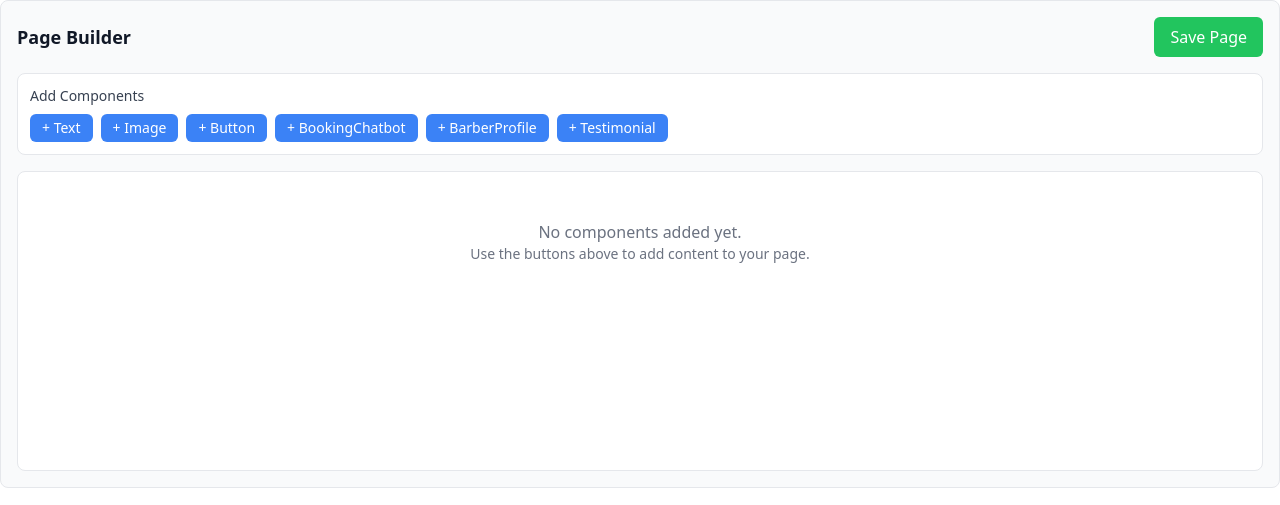
PageBuilder Component › deletes component when delete button is clicked
This screenshot has width=1280, height=505.
Add a component
Click the button "+ Text" at point(61, 128), box [30,114,92,142]
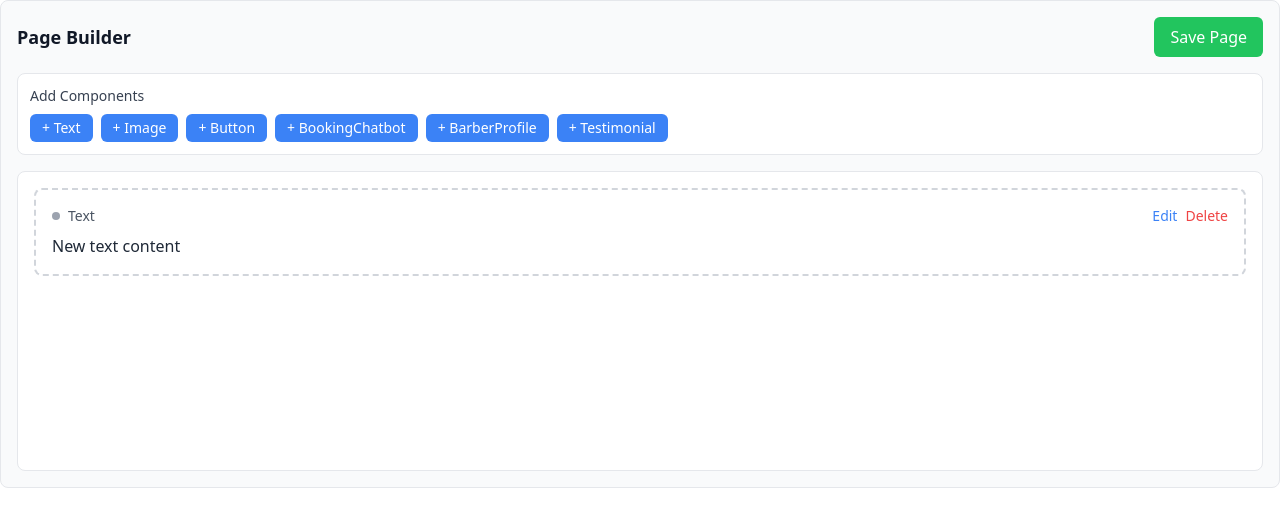
Now the text "New text content" is shown, box [52,235,180,257]
Delete the component
Click the button "Delete" at point(1207, 216), box [1185,206,1228,226]
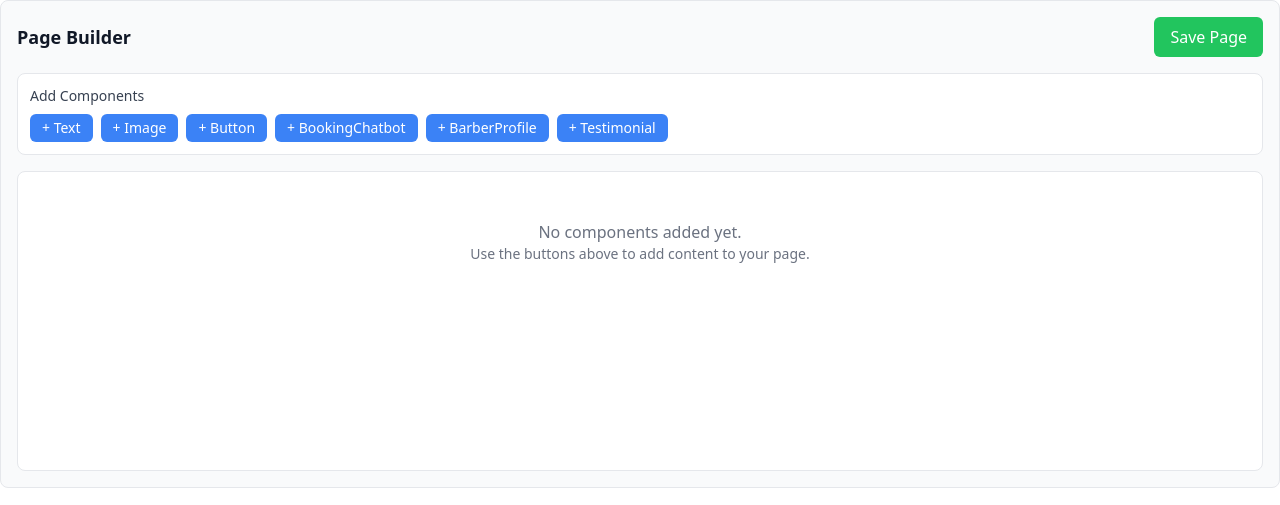
Now the text "New text content" is gone
